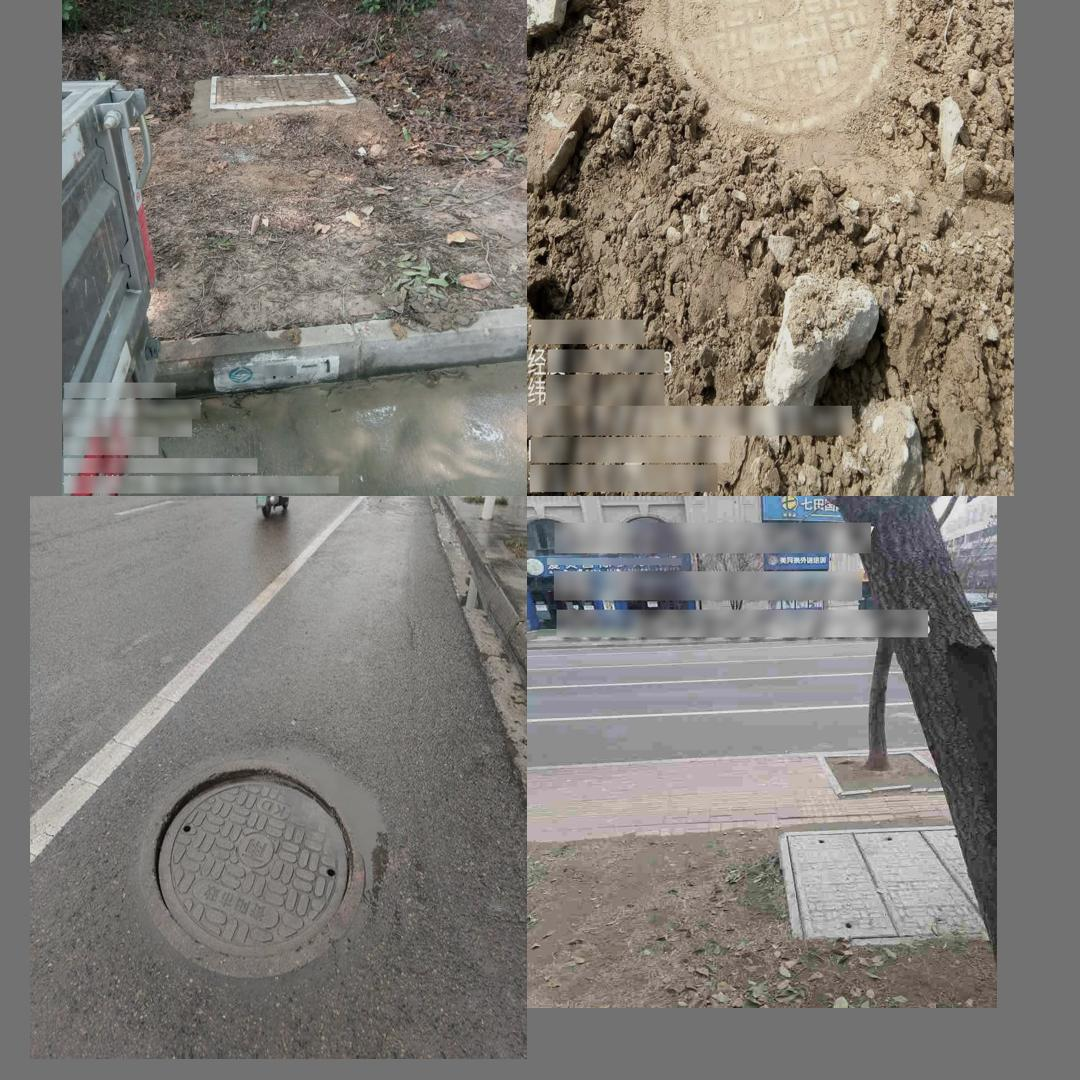good: (132, 738, 397, 986), (666, 0, 900, 129), (778, 825, 997, 946), (210, 72, 358, 110)
